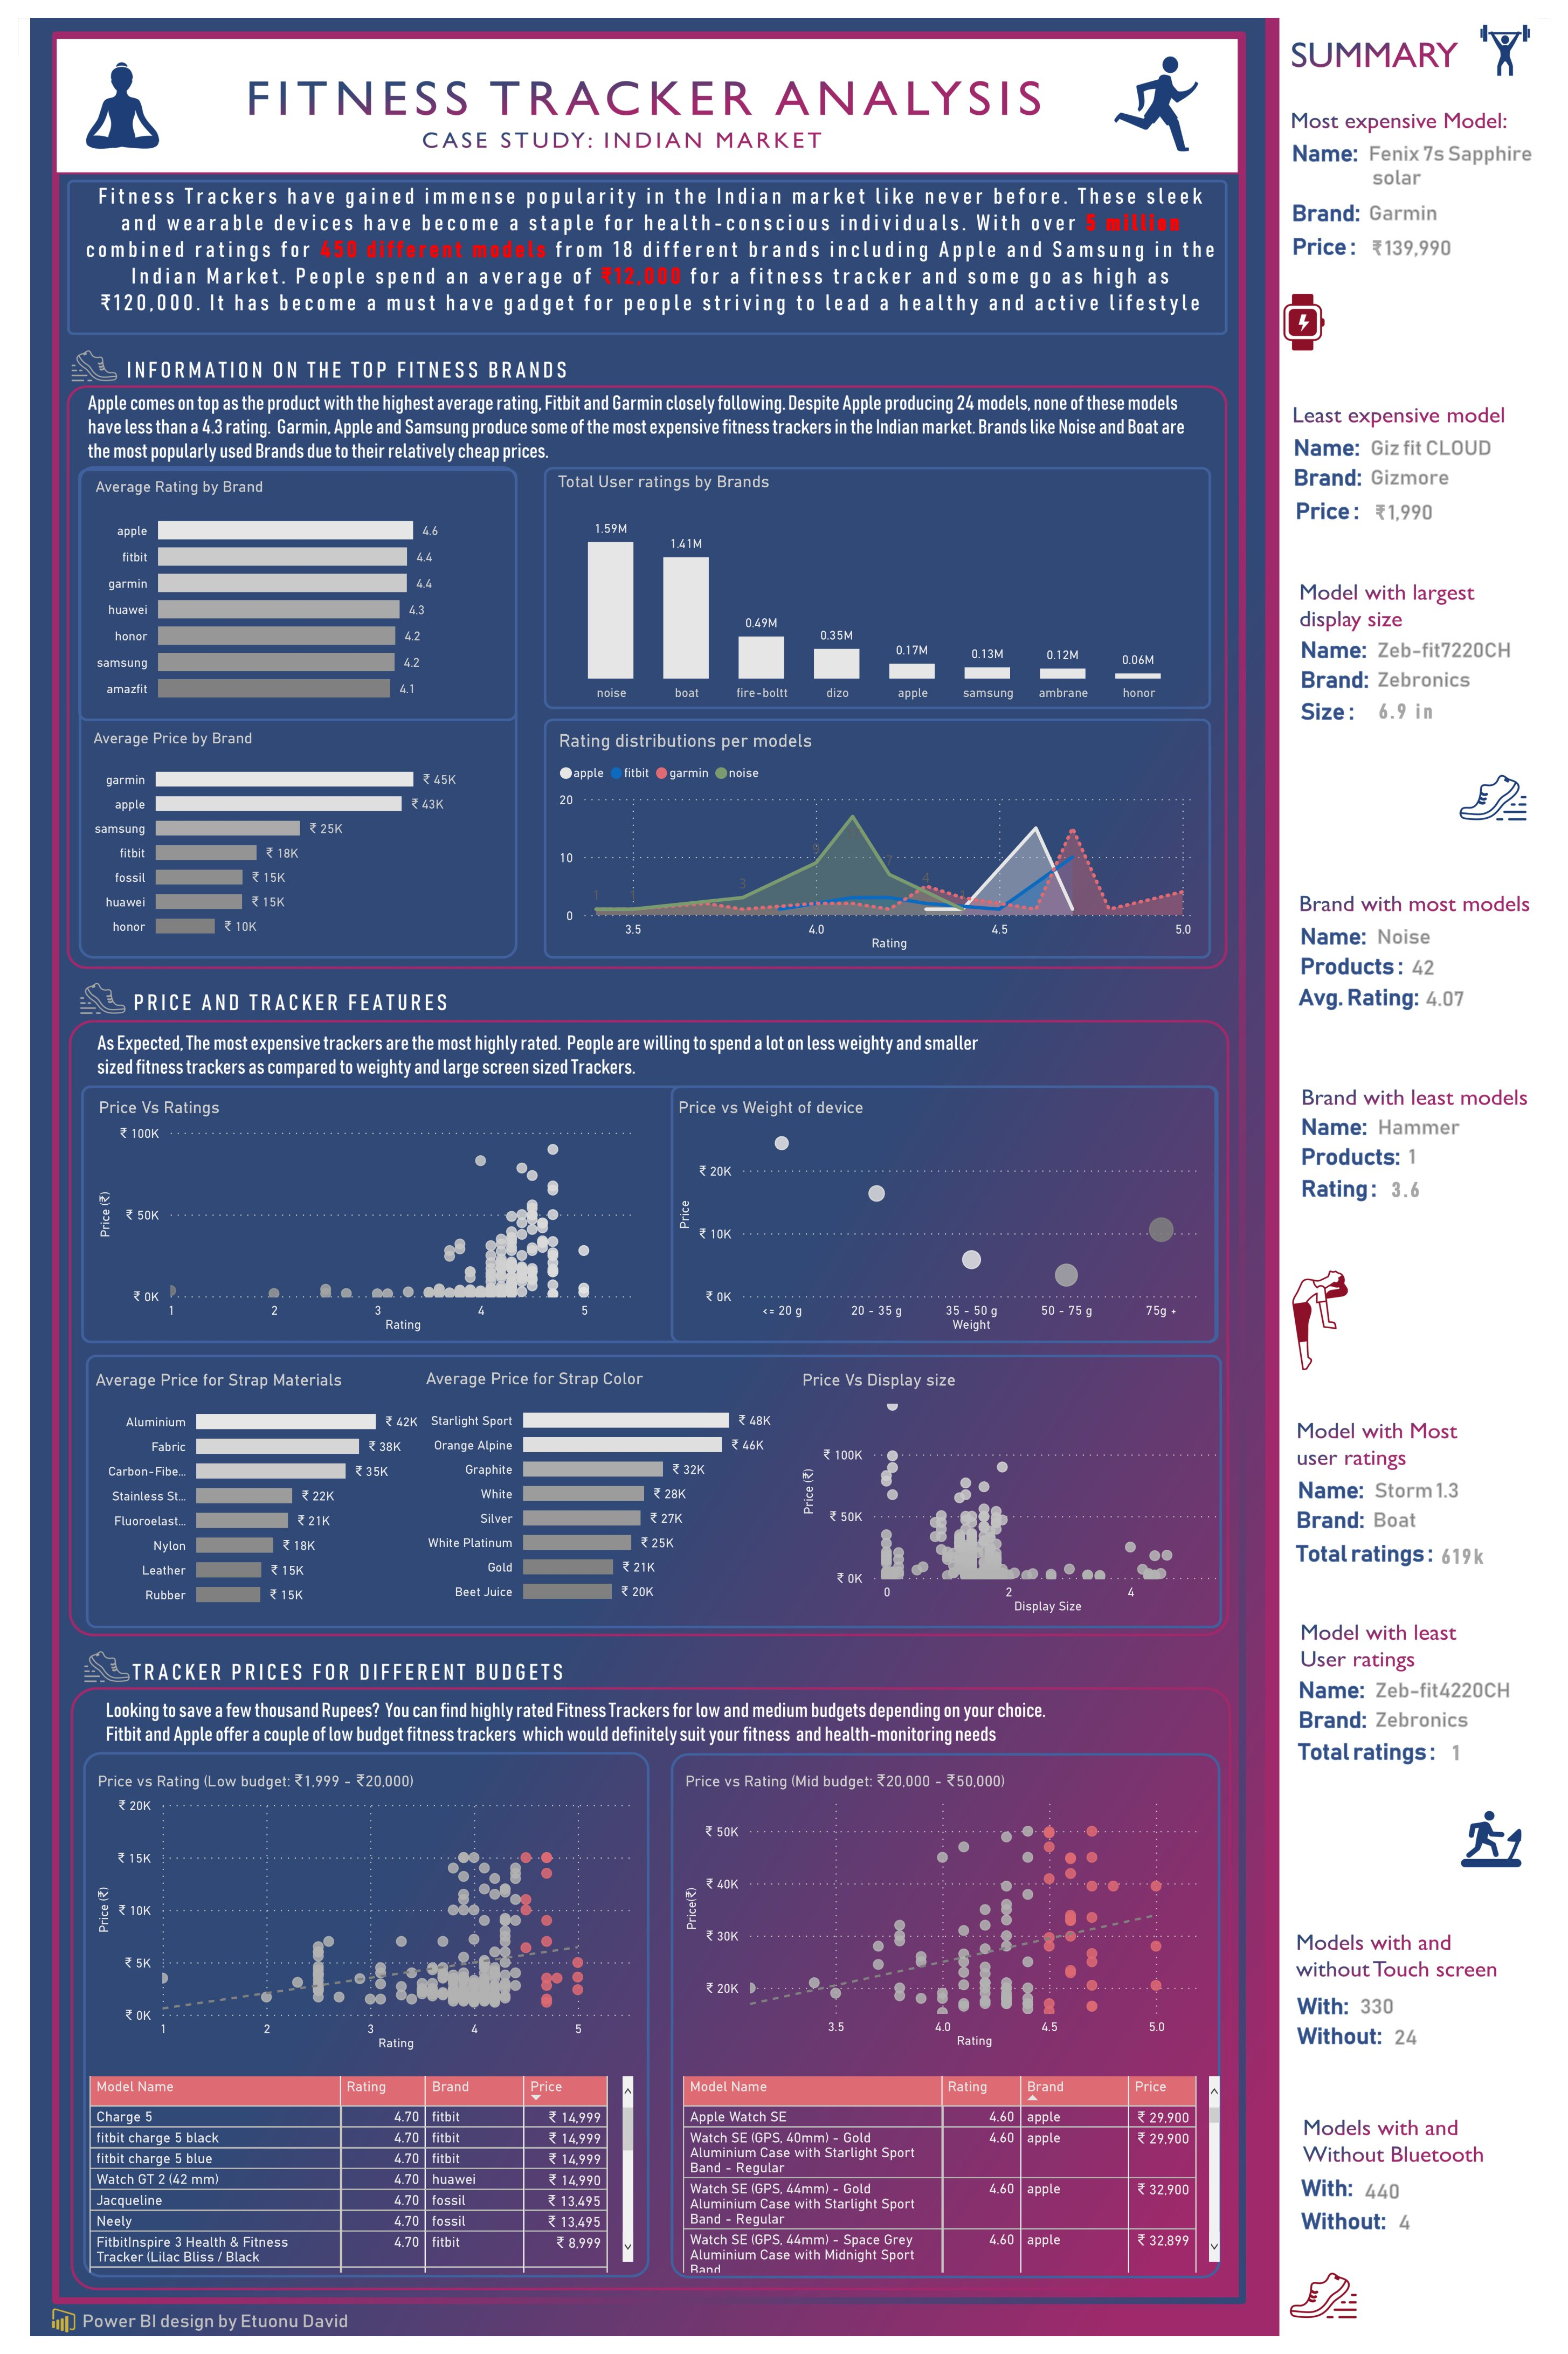

Layout of this report page (visuals, bound fields, positions):
{"tool":"powerbi","page":{"name":"Dashboard","canvas":[1300,2000],"ordinal":0},"visuals":[{"type":"barChart","fields":{"Category":["DataDNA Dataset Challenge - April 2023.Brand"],"Y":["_measures_1.Average Rating"]},"box":[51.3,397.4,353.8,203.8],"z":0},{"type":"columnChart","title":"Total User ratings by Brands","fields":{"Category":["DataDNA Dataset Challenge - April 2023.Brand"],"Y":["_measures_1.Total Ratings"]},"box":[450,392.3,557.7,203.8],"z":1000},{"type":"barChart","fields":{"Category":["DataDNA Dataset Challenge - April 2023.Brand"],"Y":["_measures_1.Average Price"]},"box":[48.7,614.1,359,189.7],"z":2000},{"type":"areaChart","title":"Rating distributions per models","fields":{"Category":["DataDNA Dataset Challenge - April 2023.Rating"],"Y":["DataDNA Dataset Challenge - April 2023.Rating"],"Series":["DataDNA Dataset Challenge - April 2023.Brand"]},"box":[451.3,614.1,557.7,194.9],"z":3000},{"type":"scatterChart","title":"Price Vs Ratings","fields":{"Y":["DataDNA Dataset Challenge - April 2023.Current Price"],"X":["DataDNA Dataset Challenge - April 2023.Rating"]},"box":[54.2,931.9,476.4,205.6],"z":4000},{"type":"scatterChart","title":"Price vs Weight of device","fields":{"Y":["DataDNA Dataset Challenge - April 2023.Current Price"],"X":["DataDNA Dataset Challenge - April 2023.Weight"],"Size":["DataDNA Dataset Challenge - April 2023.Weight num"]},"box":[554.2,931.9,459.7,205.6],"z":5000},{"type":"barChart","title":"Average Price for Strap Materials","fields":{"Y":["_measures_1.Average Price"],"Category":["DataDNA Dataset Challenge - April 2023.Strap Material"]},"box":[51.4,1166.7,318.1,213.9],"z":6000},{"type":"barChart","title":"Average Price for Strap Color","fields":{"Y":["_measures_1.Average Price"],"Category":["DataDNA Dataset Challenge - April 2023.Strap Color"]},"box":[336.5,1166.2,317.6,212.2],"z":7000},{"type":"scatterChart","title":"Price vs Rating  (Low budget: ₹1,999 - ₹20,000)","fields":{"Y":["DataDNA Dataset Challenge - April 2023.Current Price"],"X":["DataDNA Dataset Challenge - April 2023.Rating"]},"box":[52.8,1512.5,473.6,245.8],"z":8000},{"type":"scatterChart","title":"Price vs Rating (Mid budget: ₹20,000 - ₹50,000)","fields":{"Y":["DataDNA Dataset Challenge - April 2023.Current Price"],"X":["DataDNA Dataset Challenge - April 2023.Rating"]},"box":[559.7,1512.5,461.1,243.1],"z":9000},{"type":"pivotTable","fields":{"Rows":["DataDNA Dataset Challenge - April 2023.Model Name"],"Values":["DataDNA Dataset Challenge - April 2023.Rating","DataDNA Dataset Challenge - April 2023.Brand","DataDNA Dataset Challenge - April 2023.Current Price"]},"box":[558.3,1770.8,472.2,179.2],"z":10000},{"type":"pivotTable","fields":{"Rows":["DataDNA Dataset Challenge - April 2023.Model Name"],"Values":["DataDNA Dataset Challenge - April 2023.Rating","DataDNA Dataset Challenge - April 2023.Brand","DataDNA Dataset Challenge - April 2023.Current Price"]},"box":[45.8,1770.8,479.2,179.2],"z":11000},{"type":"scatterChart","title":"Price Vs Display size","fields":{"Y":["DataDNA Dataset Challenge - April 2023.Current Price"],"X":["DataDNA Dataset Challenge - April 2023.Display Size"]},"box":[661.4,1167.1,374.3,214.3],"z":12000}]}

Visuals, with their boxes in screenshot pixels (x1, y1, x2, y2), scaled from the page's 1300x2000 canvas onto the 1568x2354 screenshot:
barChart - DataDNA Dataset Challenge - April 2023.Brand x _measures_1.Average Rating: (left=62, top=468, right=488, bottom=708)
"Total User ratings by Brands" columnChart: (left=543, top=462, right=1215, bottom=702)
barChart - DataDNA Dataset Challenge - April 2023.Brand x _measures_1.Average Price: (left=59, top=723, right=492, bottom=946)
"Rating distributions per models" areaChart: (left=544, top=723, right=1217, bottom=952)
"Price Vs Ratings" scatterChart: (left=65, top=1097, right=640, bottom=1339)
"Price vs Weight of device" scatterChart: (left=668, top=1097, right=1223, bottom=1339)
"Average Price for Strap Materials" barChart: (left=62, top=1373, right=446, bottom=1625)
"Average Price for Strap Color" barChart: (left=406, top=1372, right=789, bottom=1623)
"Price vs Rating  (Low budget: ₹1,999 - ₹20,000)" scatterChart: (left=64, top=1780, right=635, bottom=2069)
"Price vs Rating (Mid budget: ₹20,000 - ₹50,000)" scatterChart: (left=675, top=1780, right=1231, bottom=2066)
pivotTable - DataDNA Dataset Challenge - April 2023.Model Name x DataDNA Dataset Challenge - April 2023.Rating: (left=673, top=2084, right=1243, bottom=2295)
pivotTable - DataDNA Dataset Challenge - April 2023.Model Name x DataDNA Dataset Challenge - April 2023.Rating: (left=55, top=2084, right=633, bottom=2295)
"Price Vs Display size" scatterChart: (left=798, top=1373, right=1249, bottom=1626)
